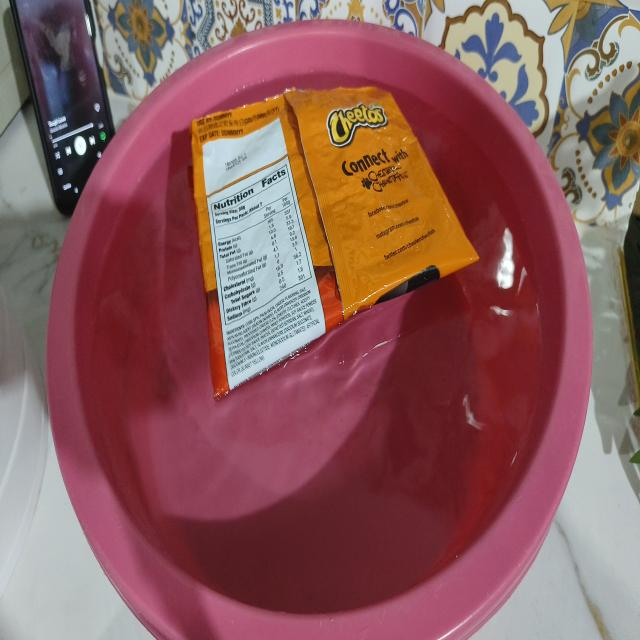Plastic Wrapper: (191, 87, 478, 397)
